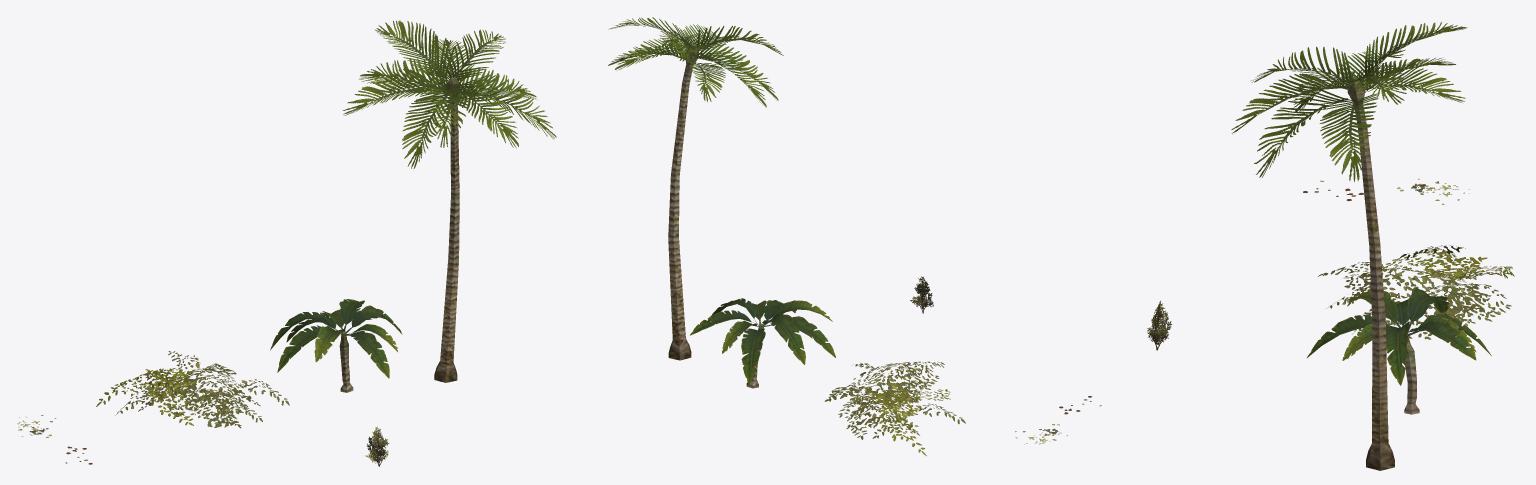
The model's file is f_1000_foliage.FBX.
3 views of the same model, side by side, from view 1: azimuth 30°, elevation 25°; view 2: azimuth 150°, elevation 25°; view 3: azimuth 270°, elevation 25° (orthographic). The views are drawn at different scales.
Visible parts, largest first — view 1: d_1011_Tree07, d_1011_Tree03, d_1011_Tree04, d_1011_Tree06; view 2: d_1011_Tree07, d_1011_Tree03, d_1011_Tree04, d_1011_Tree06; view 3: d_1011_Tree07, d_1011_Tree06, d_1011_Tree04, d_1011_Tree03, d_1011_Tree05, d_1011_Tree01.
Boxes of the visible parts, x1,y1,x2,y2 form: d_1011_Tree07: [343, 20, 556, 168]; d_1011_Tree03: [96, 351, 289, 428]; d_1011_Tree04: [270, 299, 402, 378]; d_1011_Tree06: [434, 77, 459, 382]; d_1011_Tree07: [608, 17, 783, 107]; d_1011_Tree03: [824, 361, 965, 456]; d_1011_Tree04: [690, 298, 835, 384]; d_1011_Tree06: [668, 43, 697, 360]; d_1011_Tree07: [1231, 22, 1466, 181]; d_1011_Tree06: [1347, 76, 1394, 470]; d_1011_Tree04: [1307, 287, 1491, 385]; d_1011_Tree03: [1318, 245, 1514, 339]; d_1011_Tree05: [1403, 334, 1419, 414]; d_1011_Tree01: [1147, 300, 1171, 350].
Bounding box in the file's own units: 3517 × 2334 × 1838.
